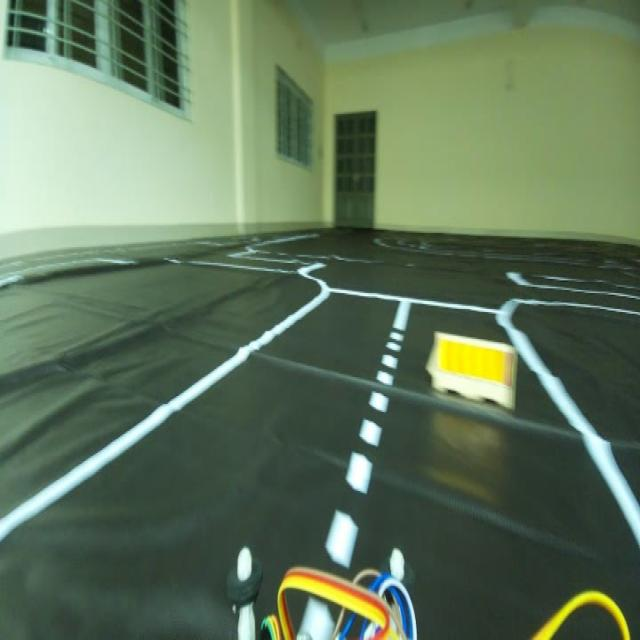roadblock: (419, 322, 521, 422)
